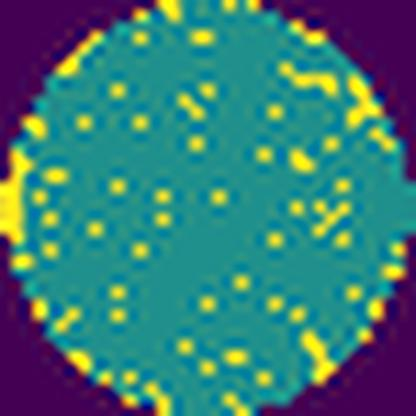Edge-Loc: (0, 141, 35, 251), (296, 329, 338, 384)
